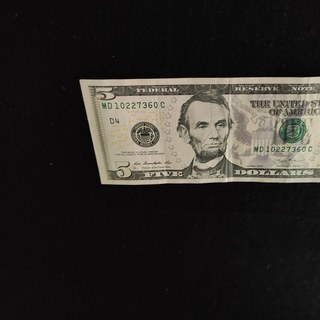5USDFront: (78, 75, 320, 185)
